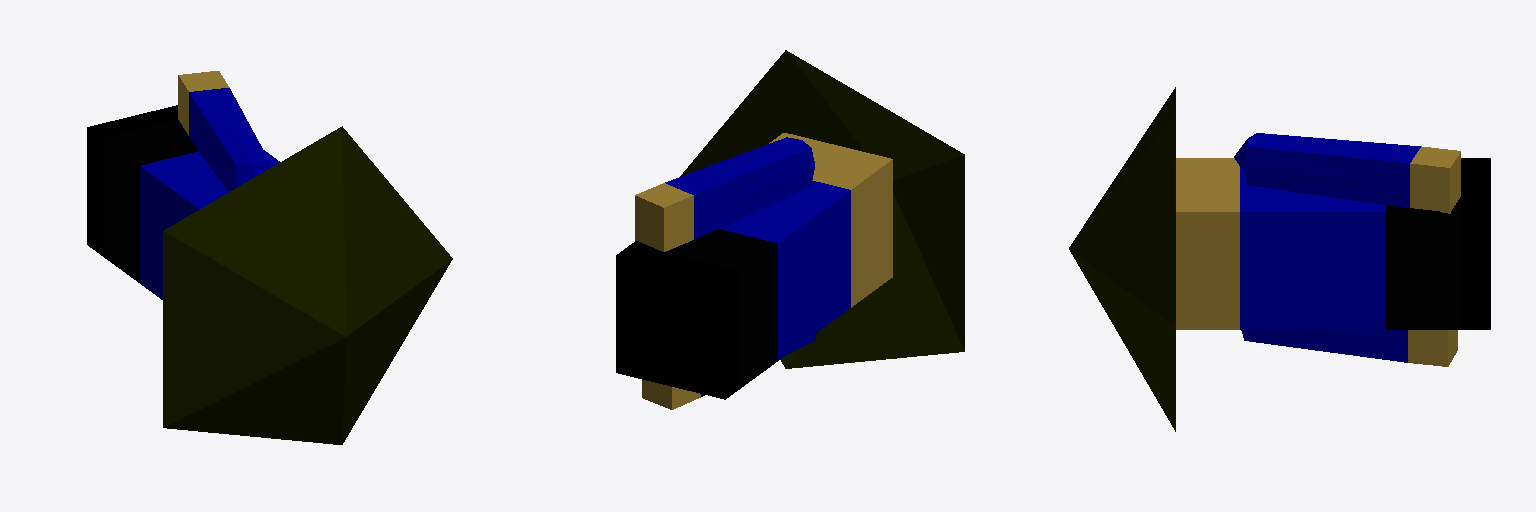
File: player_v1.obj
3 renders of one model, left to right at view 1: azimuth 30°, elevation 25°; view 2: azimuth 150°, elevation 25°; view 3: azimuth 270°, elevation 25°, orthographic.
Visible parts, largest first — view 1: model_player_v1_Cube.001; view 2: model_player_v1_Cube.001; view 3: model_player_v1_Cube.001.
Boxes of the visible parts, box(x1,y1,x2,y2) form: model_player_v1_Cube.001: box(87, 71, 452, 444); model_player_v1_Cube.001: box(616, 50, 964, 409); model_player_v1_Cube.001: box(1069, 87, 1490, 431).
Bounding box in the file's own units: 0.7316 × 0.7692 × 0.9236.